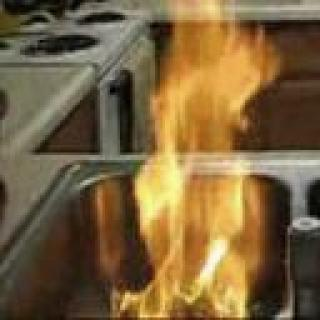fire: (128, 0, 276, 320)
